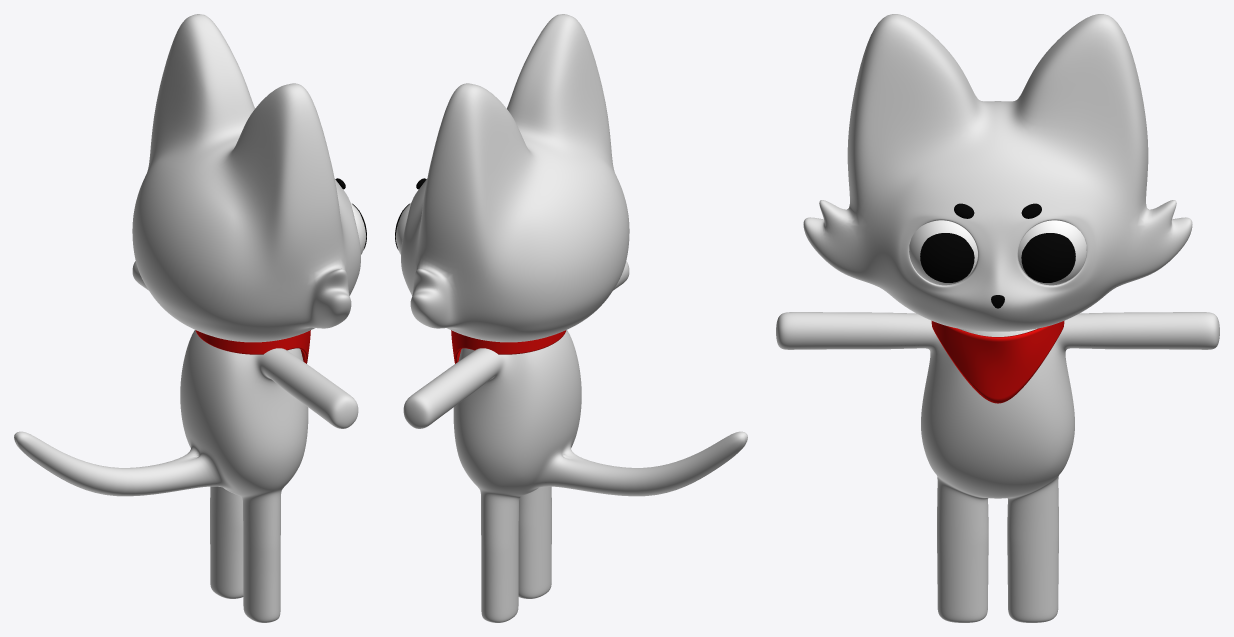
File: Cat Guy.fbx
3 views of the same model, side by side, from view 1: azimuth 30°, elevation 25°; view 2: azimuth 150°, elevation 25°; view 3: azimuth 270°, elevation 25° (orthographic). The views are drawn at different scales.
Parts seen in each view (by area): view 1: Cube, Cube.003, Circle; view 2: Cube, Cube.003, Circle; view 3: Cube, Cube.003, Circle, Plane, Sphere.
Boxes of the visible parts, <box> form: Cube: <box>132,14,360,342</box>; Cube.003: <box>14,261,358,622</box>; Circle: <box>195,330,310,363</box>; Cube: <box>401,14,629,342</box>; Cube.003: <box>403,261,747,622</box>; Circle: <box>451,330,566,363</box>; Cube: <box>803,14,1192,331</box>; Cube.003: <box>776,312,1219,622</box>; Circle: <box>931,321,1064,403</box>; Plane: <box>920,233,1075,282</box>; Sphere: <box>909,220,1086,285</box>.
Size of the model in its own units: 123 by 192 by 128.
